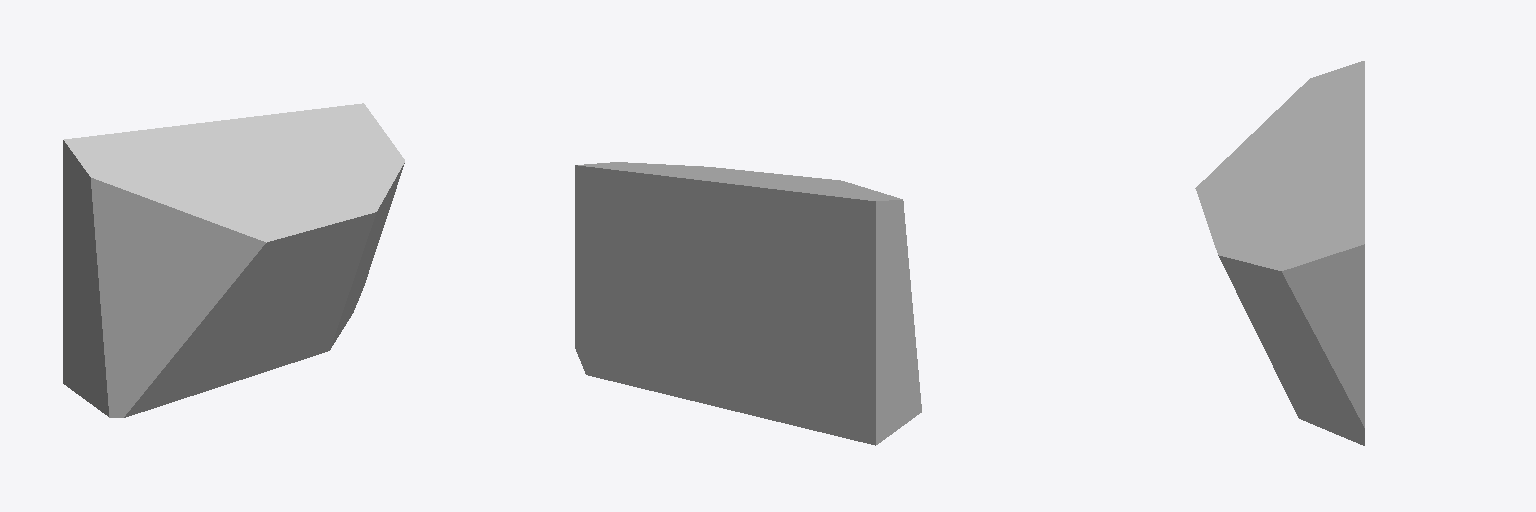
The model's file is CubeShatter07.obj.
The picture shows the model from 3 angles: view 1: azimuth 30°, elevation 25°; view 2: azimuth 150°, elevation 25°; view 3: azimuth 270°, elevation 25°; orthographic projection.
Parts seen in each view (by area): view 1: CubeShatter07; view 2: CubeShatter07; view 3: CubeShatter07.
Part boxes in pixels (left/top/right/bottom): CubeShatter07: left=63, top=103, right=404, bottom=417; CubeShatter07: left=575, top=162, right=921, bottom=445; CubeShatter07: left=1195, top=61, right=1364, bottom=445.
Bounding box in the file's own units: 2 × 1.55 × 0.9744.